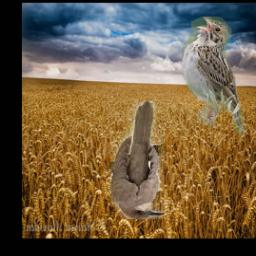Cuckoo: (109, 101, 164, 219)
Sparrow: (182, 17, 245, 136)
